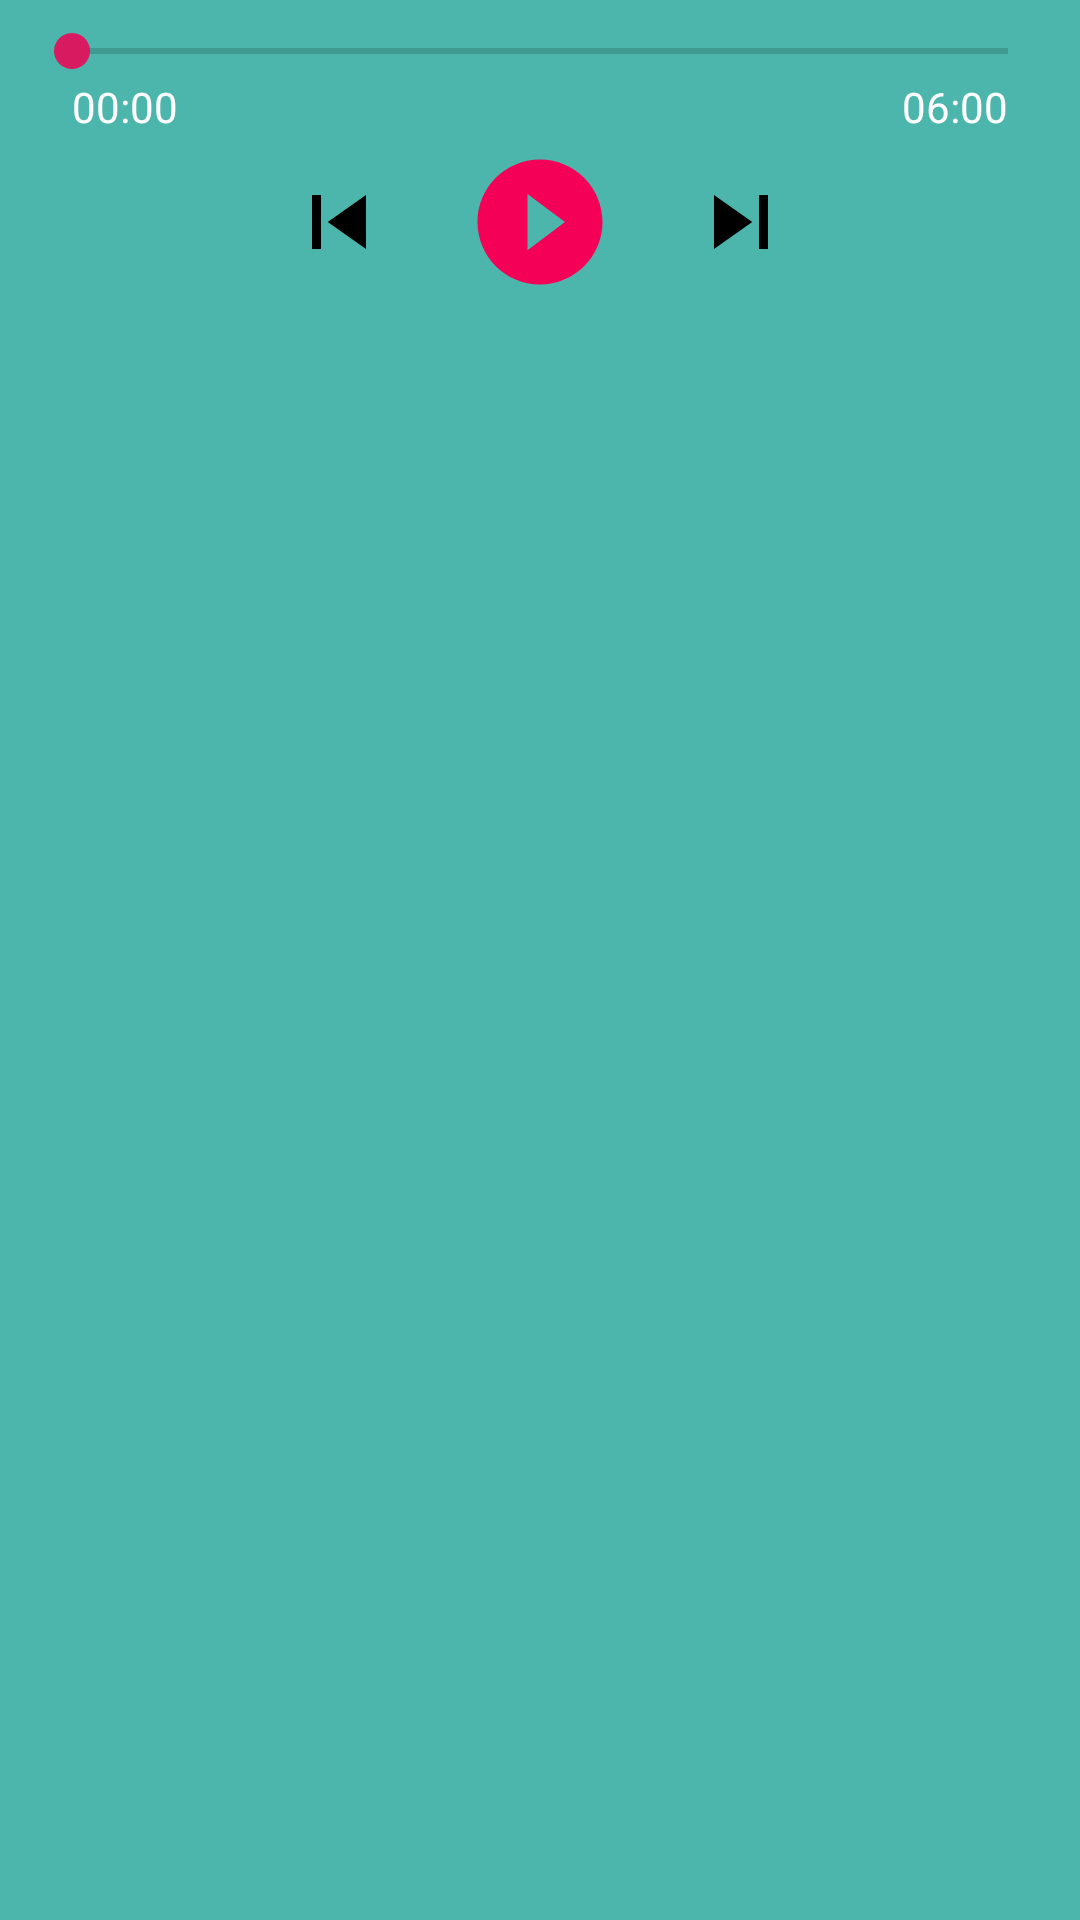

Icons on this 1080×1920 Android screen, each with its box as (x1, y1, x2, y2):
play circle: (477, 159, 603, 285)
skip next: (714, 195, 768, 249)
skip previous: (312, 195, 366, 249)
